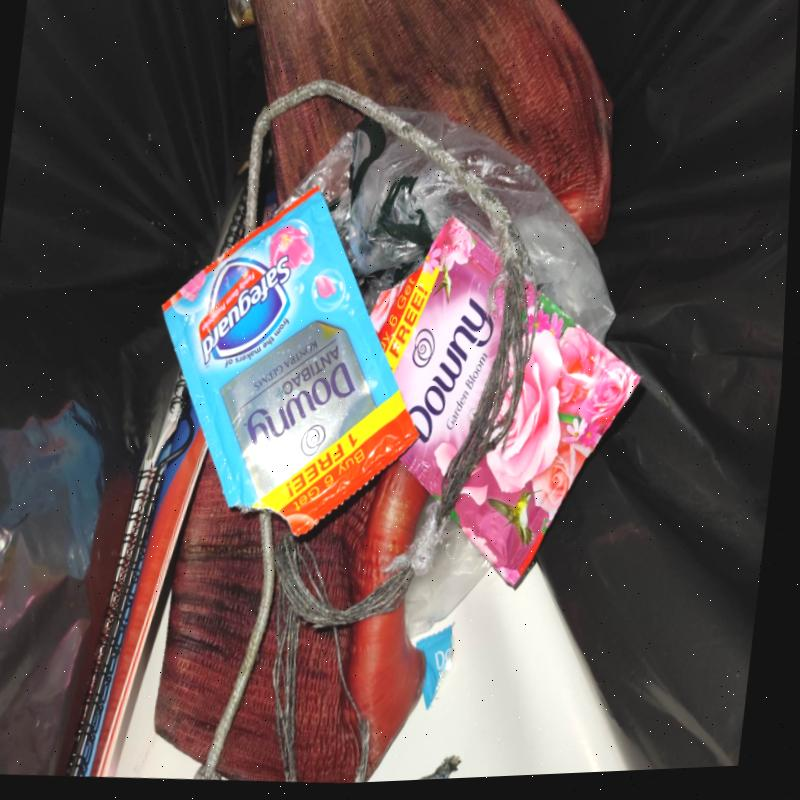cardboard: (367, 566, 657, 782), (63, 390, 208, 779)
plastic sachet: (371, 215, 641, 587), (166, 184, 421, 534)
vegetable peels: (154, 451, 428, 783), (252, 0, 616, 244), (272, 95, 368, 207)
